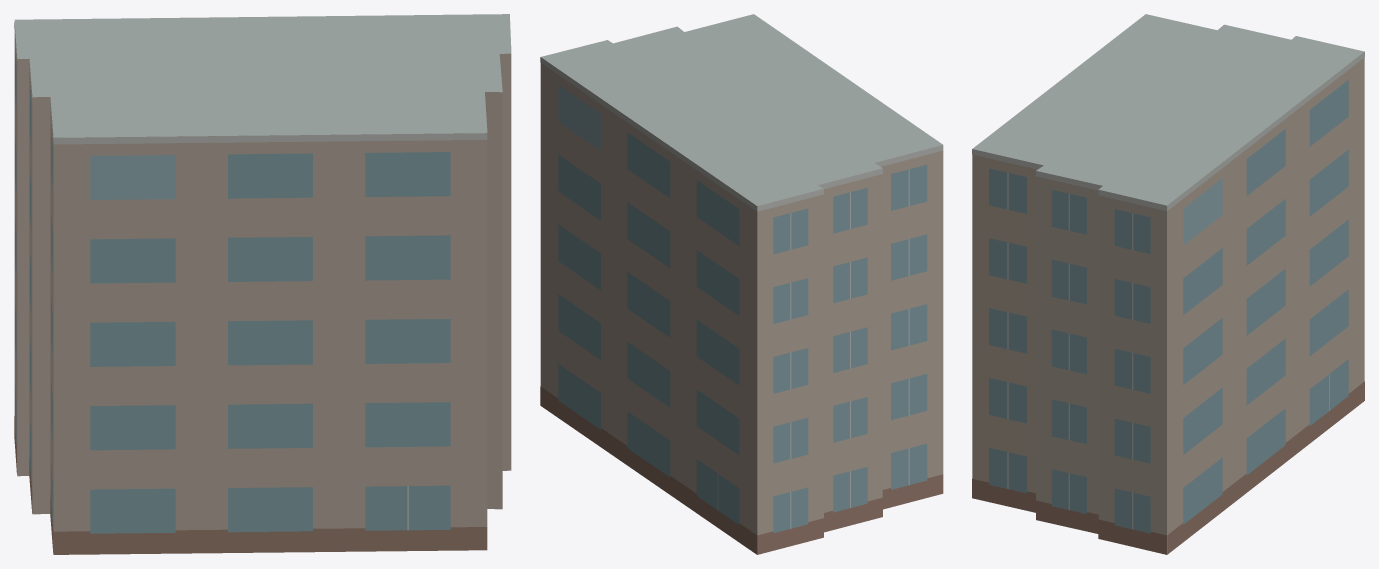
The model's file is survey-upis-32975371.glb.
3 views of the same model, side by side, from view 1: azimuth 30°, elevation 25°; view 2: azimuth 150°, elevation 25°; view 3: azimuth 270°, elevation 25° (orthographic). The views are drawn at different scales.
Parts seen in each view (by area): view 1: survey-upis-32975371.tmp; view 2: survey-upis-32975371.tmp; view 3: survey-upis-32975371.tmp.
Part boxes in pixels (bbox=[...]): survey-upis-32975371.tmp: bbox=[14, 14, 511, 554]; survey-upis-32975371.tmp: bbox=[540, 14, 943, 554]; survey-upis-32975371.tmp: bbox=[972, 14, 1364, 554].
Bounding box in the file's own units: 17.96 × 15.25 × 15.55.
